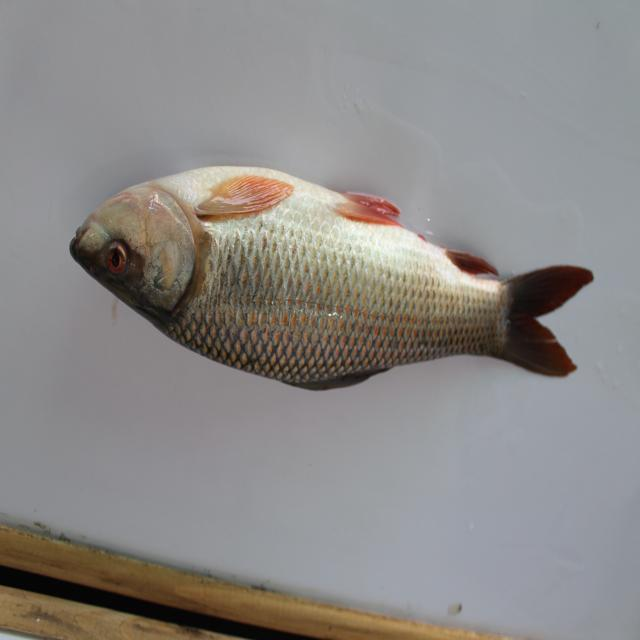Rohu: (55, 160, 594, 401)
